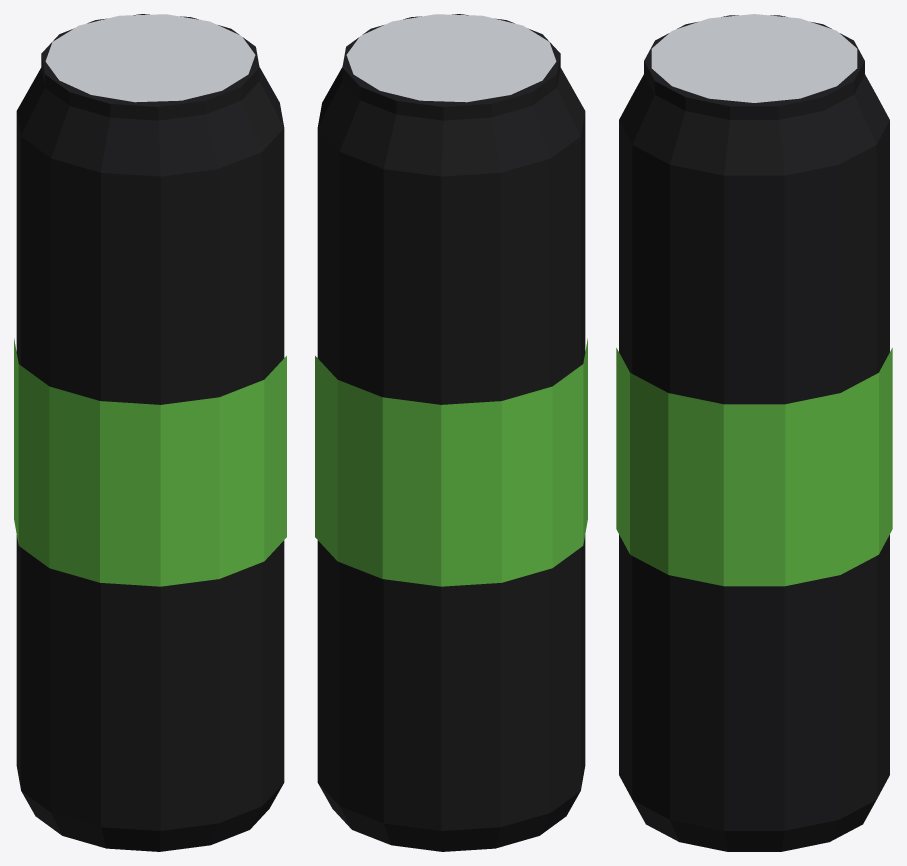
The model's file is energy-drink.glb.
The picture shows the model from 3 angles, left to right: view 1: azimuth 30°, elevation 25°; view 2: azimuth 150°, elevation 25°; view 3: azimuth 270°, elevation 25°; orthographic projection.
Parts seen in each view (by area): view 1: energy_drink; view 2: energy_drink; view 3: energy_drink.
Boxes of the visible parts, bbox=[...] form: energy_drink: bbox=[14, 14, 286, 851]; energy_drink: bbox=[315, 14, 587, 851]; energy_drink: bbox=[616, 14, 892, 851].
Size of the model in its own units: 0.0536 by 0.1635 by 0.055.
